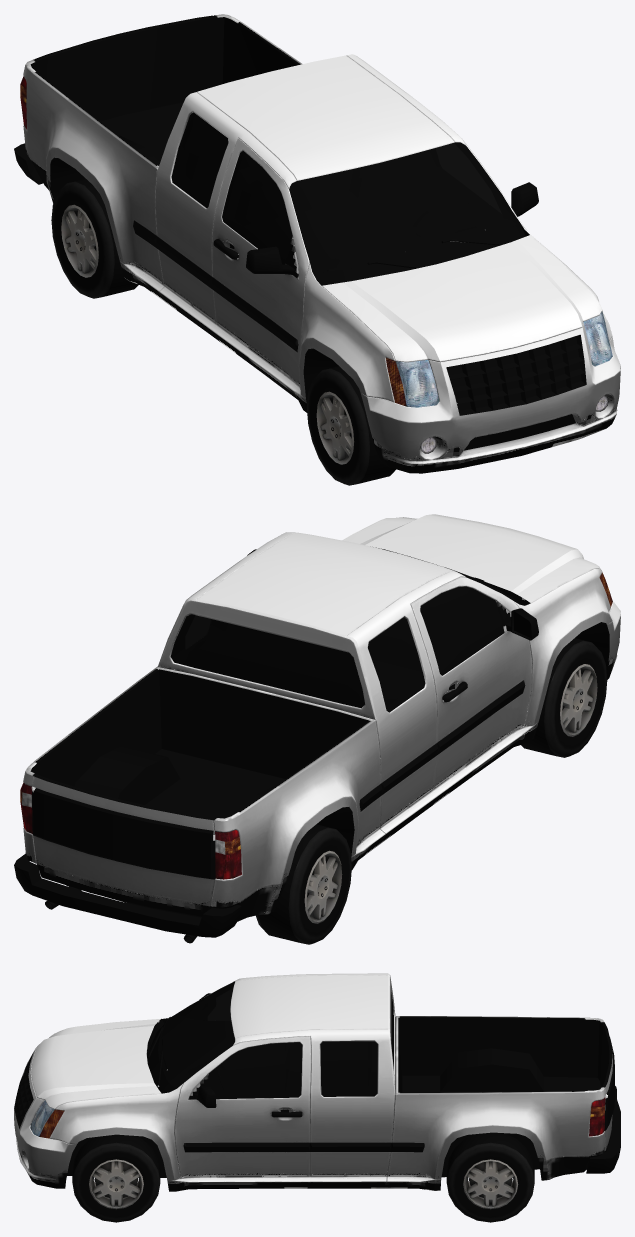
Rendered from pickup.glb.
3 renders of one model, top to bottom at view 1: azimuth 30°, elevation 25°; view 2: azimuth 150°, elevation 25°; view 3: azimuth 270°, elevation 25°, orthographic. The views are drawn at different scales.
Parts seen in each view (by area): view 1: body, glass, wheel (×2), optics; view 2: body, glass, wheel (×2), optics; view 3: body, wheel (×2), glass, optics.
Boxes of the visible parts, <box> form: body: <box>14,14,620,473</box>; glass: <box>171,112,519,271</box>; wheel (×2): <box>51,178,395,485</box>; optics: <box>20,76,612,453</box>; body: <box>14,514,620,943</box>; glass: <box>170,547,518,712</box>; wheel (×2): <box>256,638,607,944</box>; optics: <box>20,572,612,879</box>; body: <box>14,973,620,1191</box>; wheel (×2): <box>72,1132,534,1222</box>; glass: <box>158,981,393,1099</box>; optics: <box>30,1097,605,1138</box>.
Size of the model in its own units: 2.07 by 1.7 by 5.18.
Materials: 4 (3 with a texture image).
